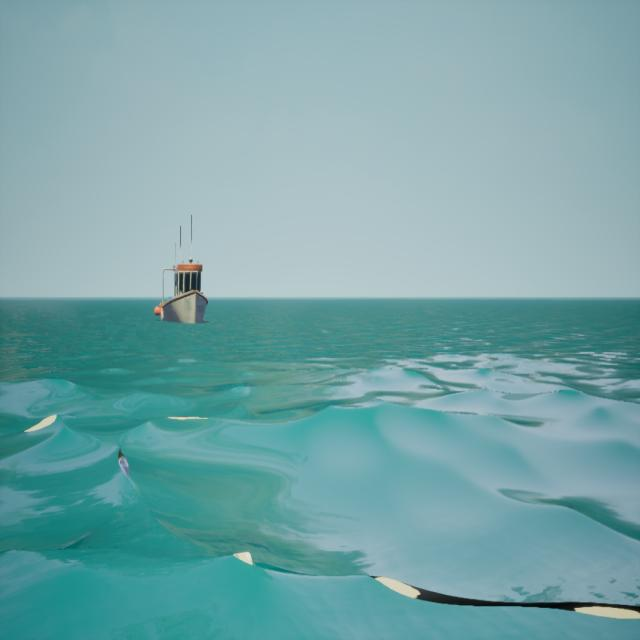ship: (151, 204, 218, 334)
